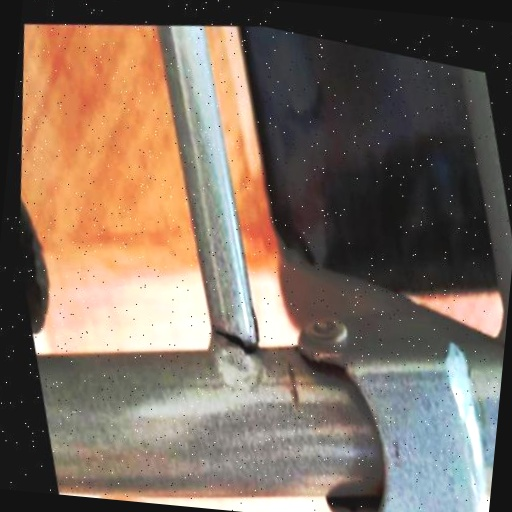crack: (188, 285, 285, 388), (473, 321, 507, 402)
